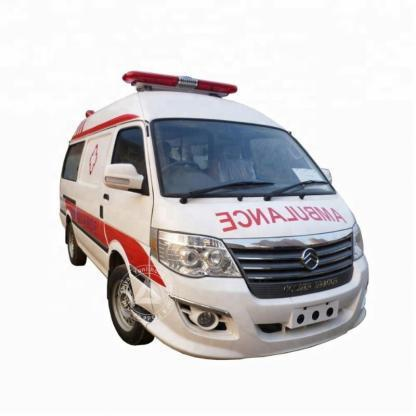Ambulance - v1 Ambulance last generate: (60, 67, 374, 364)
